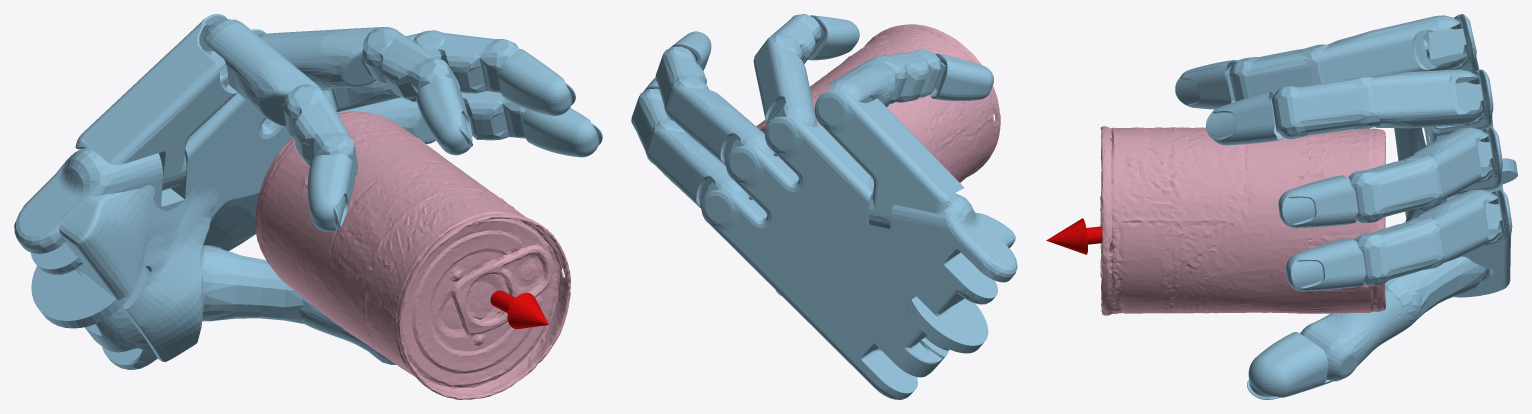
The picture shows the model from 3 angles, left to right: view 1: azimuth 30°, elevation 25°; view 2: azimuth 150°, elevation 25°; view 3: azimuth 270°, elevation 25°; orthographic projection. The views are drawn at different scales.
Parts seen in each view (by area): view 1: world, tomato_soup_can.stl; view 2: world, tomato_soup_can.stl; view 3: world, tomato_soup_can.stl.
Boxes of the visible parts, <box> form: world: <box>14,14,602,369</box>; tomato_soup_can.stl: <box>255,111,570,399</box>; world: <box>631,14,1017,399</box>; tomato_soup_can.stl: <box>748,24,1000,199</box>; world: <box>1046,14,1517,399</box>; tomato_soup_can.stl: <box>1100,126,1385,315</box>.
Size of the model in its own units: 0.1964 by 0.1256 by 0.1682.
